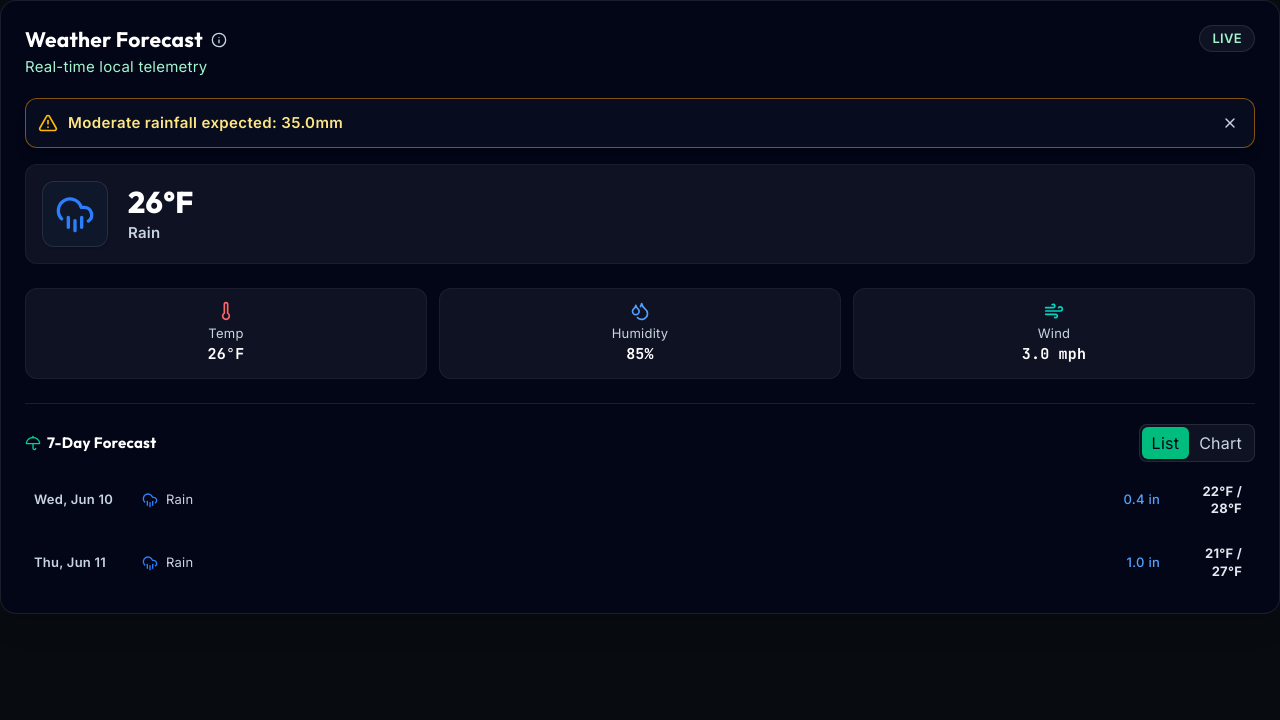
Test: WeatherCard Component Tests › should allow dismissing the alert banner
expect the text "Moderate rainfall expected: 35.0mm" is shown: met, box [68,112,343,134]
Click the button named "dismiss". click: (1230, 123)
box: [1218,111,1242,135]
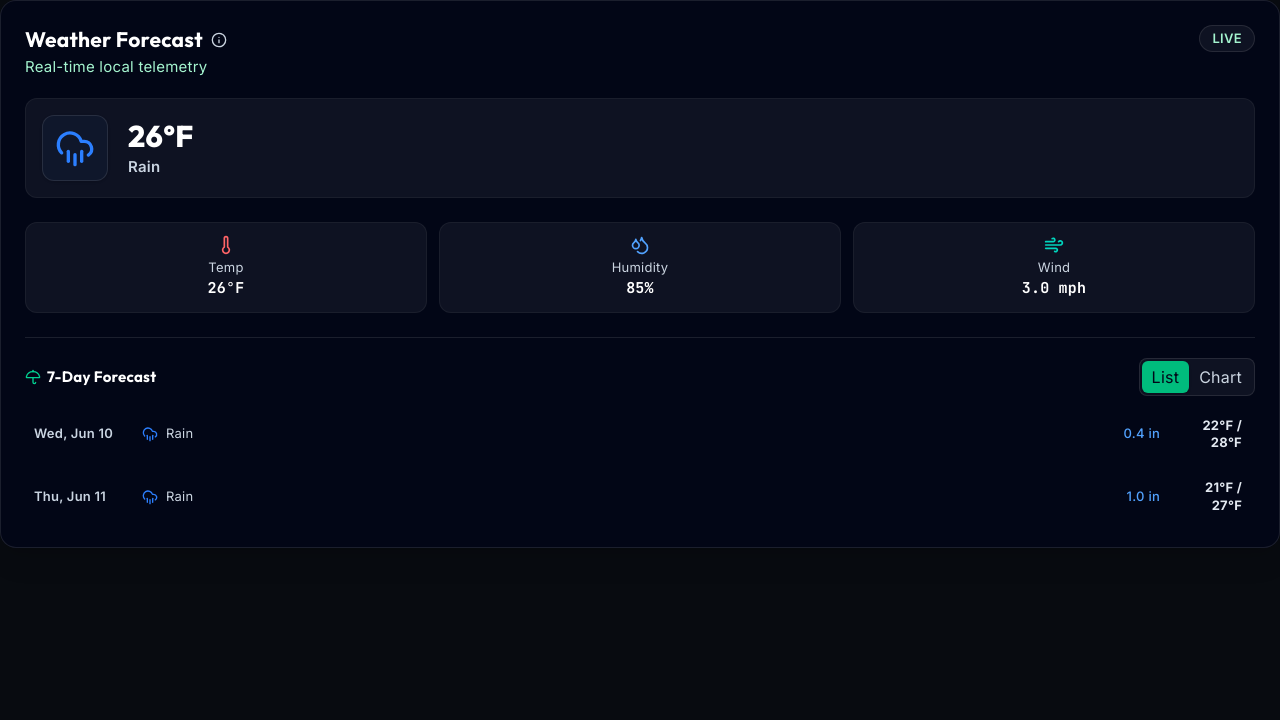
expect the text "Moderate rainfall expected: 35.0mm" is gone: met
